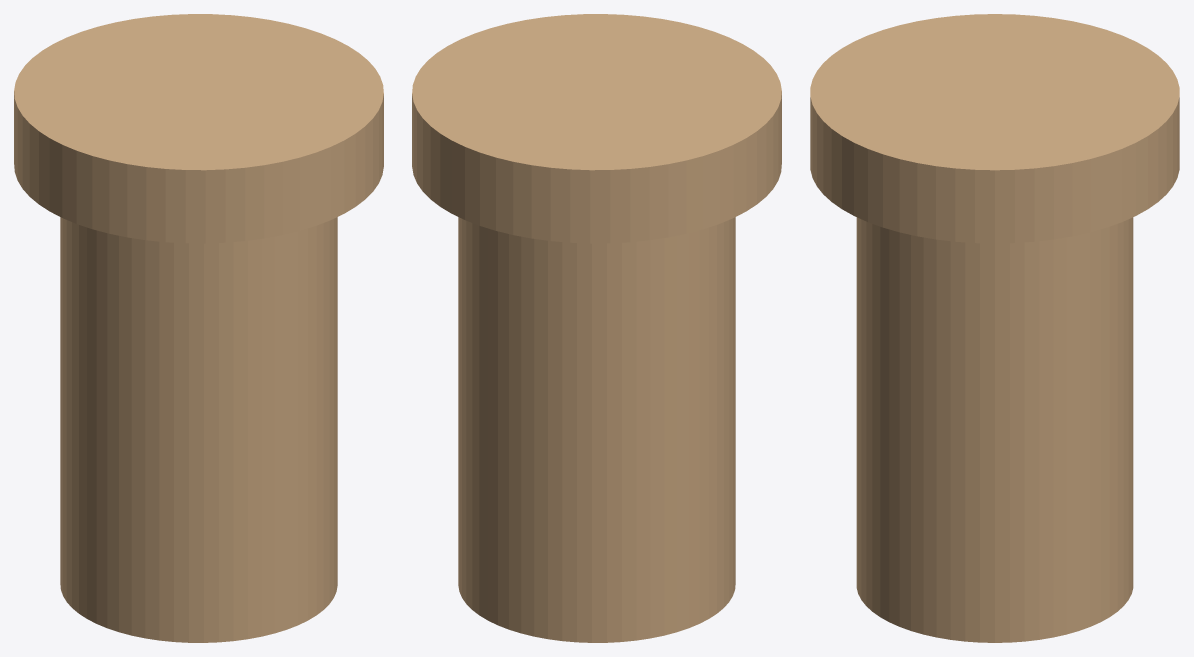
The model's file is starter-solenoid-terminal-2.glb.
3 views of the same model, side by side, from view 1: azimuth 30°, elevation 25°; view 2: azimuth 150°, elevation 25°; view 3: azimuth 270°, elevation 25° (orthographic).
Parts seen in each view (by area): view 1: world; view 2: world; view 3: world.
Boxes of the visible parts, x1,y1,x2,y2 form: world: (14, 14, 383, 642); world: (412, 14, 781, 642); world: (810, 14, 1179, 642).
Bounding box in the file's own units: 0.008 × 0.0118 × 0.00799.
